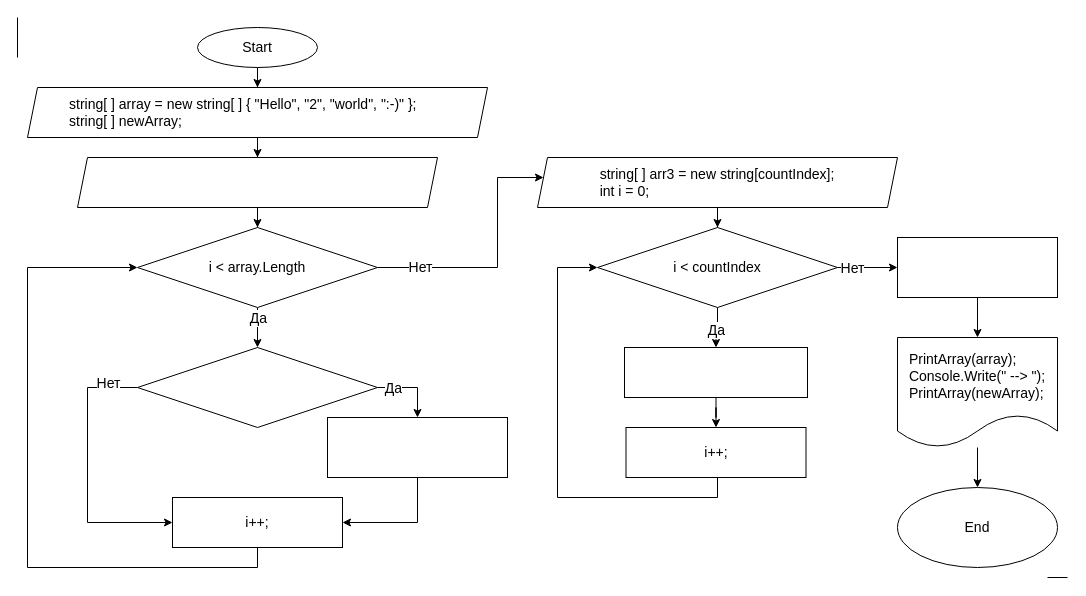
Some shapes in this 1086 by 596 pixel diagram are drawn without their labels. Each missing label, with the centre of its shape:
arr2[countIndex] = array[i]; countIndex++;: point 417,447
arr3[i] = arr2[i];: point 716,372
array[i].Length <= 3: point 257,387
newArray = arr3;: point 977,267
string[ ] arr2 = new string[array.Length]; int countIndex = 0; int i = 0;: point 257,182
